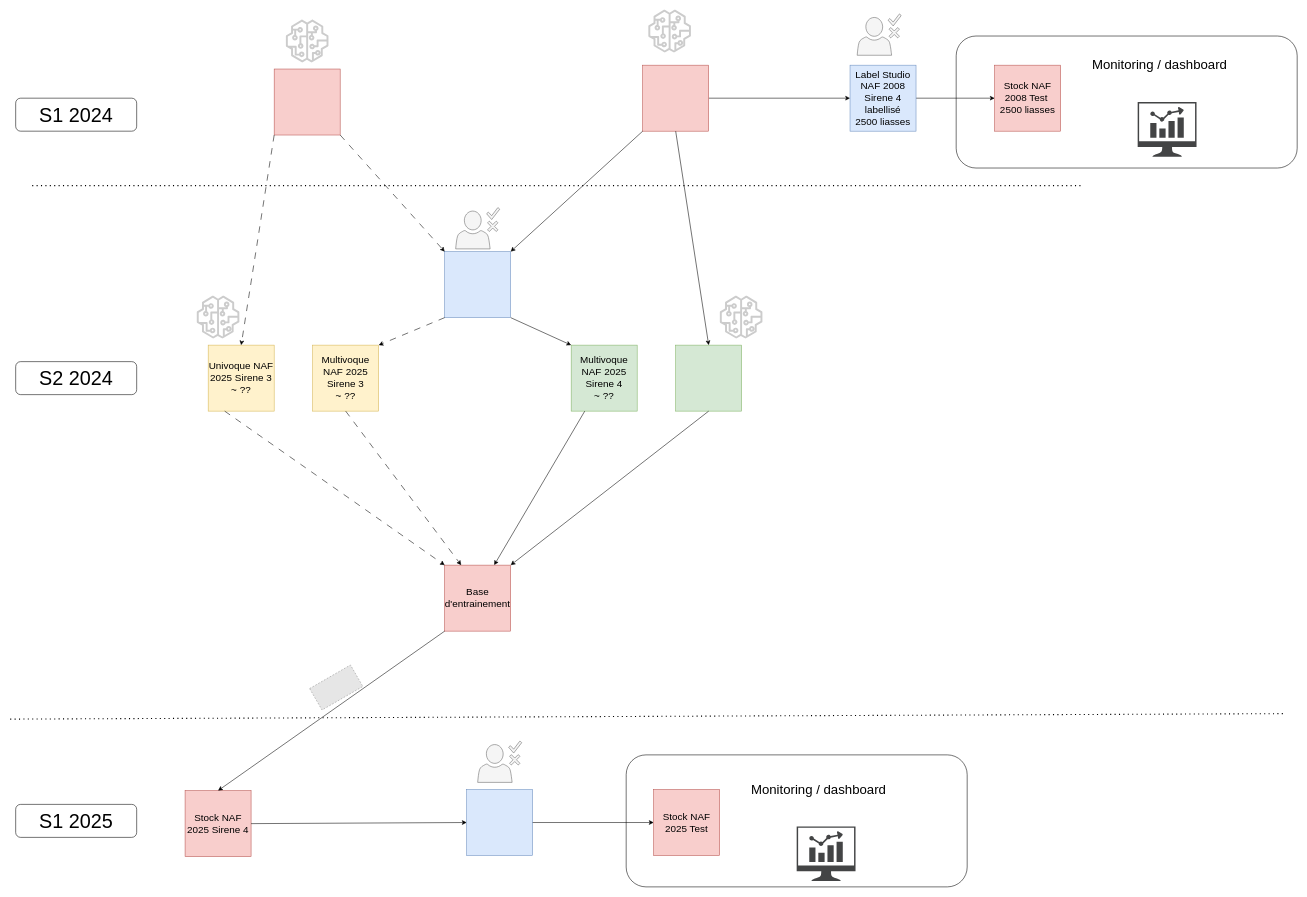
Image size: 1307x897. Some labels were removed from this diagram. Grey dashed boxes stand in for pictures. The shapes that lost their labels are listed below. From the top down, each one's centre as x and y in pixels, then its label:
pixel 307 101: Stock NAF 2008 Sirene 3 (Sicore + reprise manuelle) ~12 millions
pixel 675 98: Stock NAF 2008 Sirene 4 (fasttext + Sicore + Reprise manuele) ~ 1 million
pixel 477 284: Label Studio Multivoque NAF 2025 ~ ??
pixel 708 378: Univoque NAF 2025 Sirene 4 ~ ??
pixel 499 822: Label Studio NAF 2025 Sirene 4 labellisé
